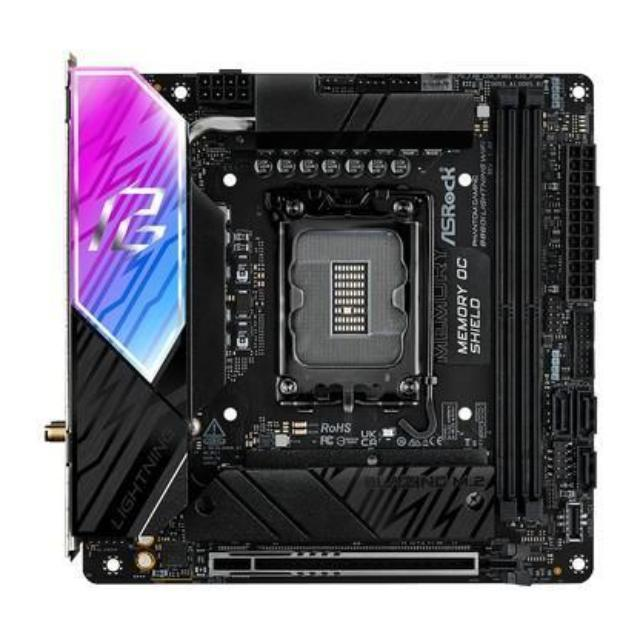Mainboard: (46, 47, 606, 610)
